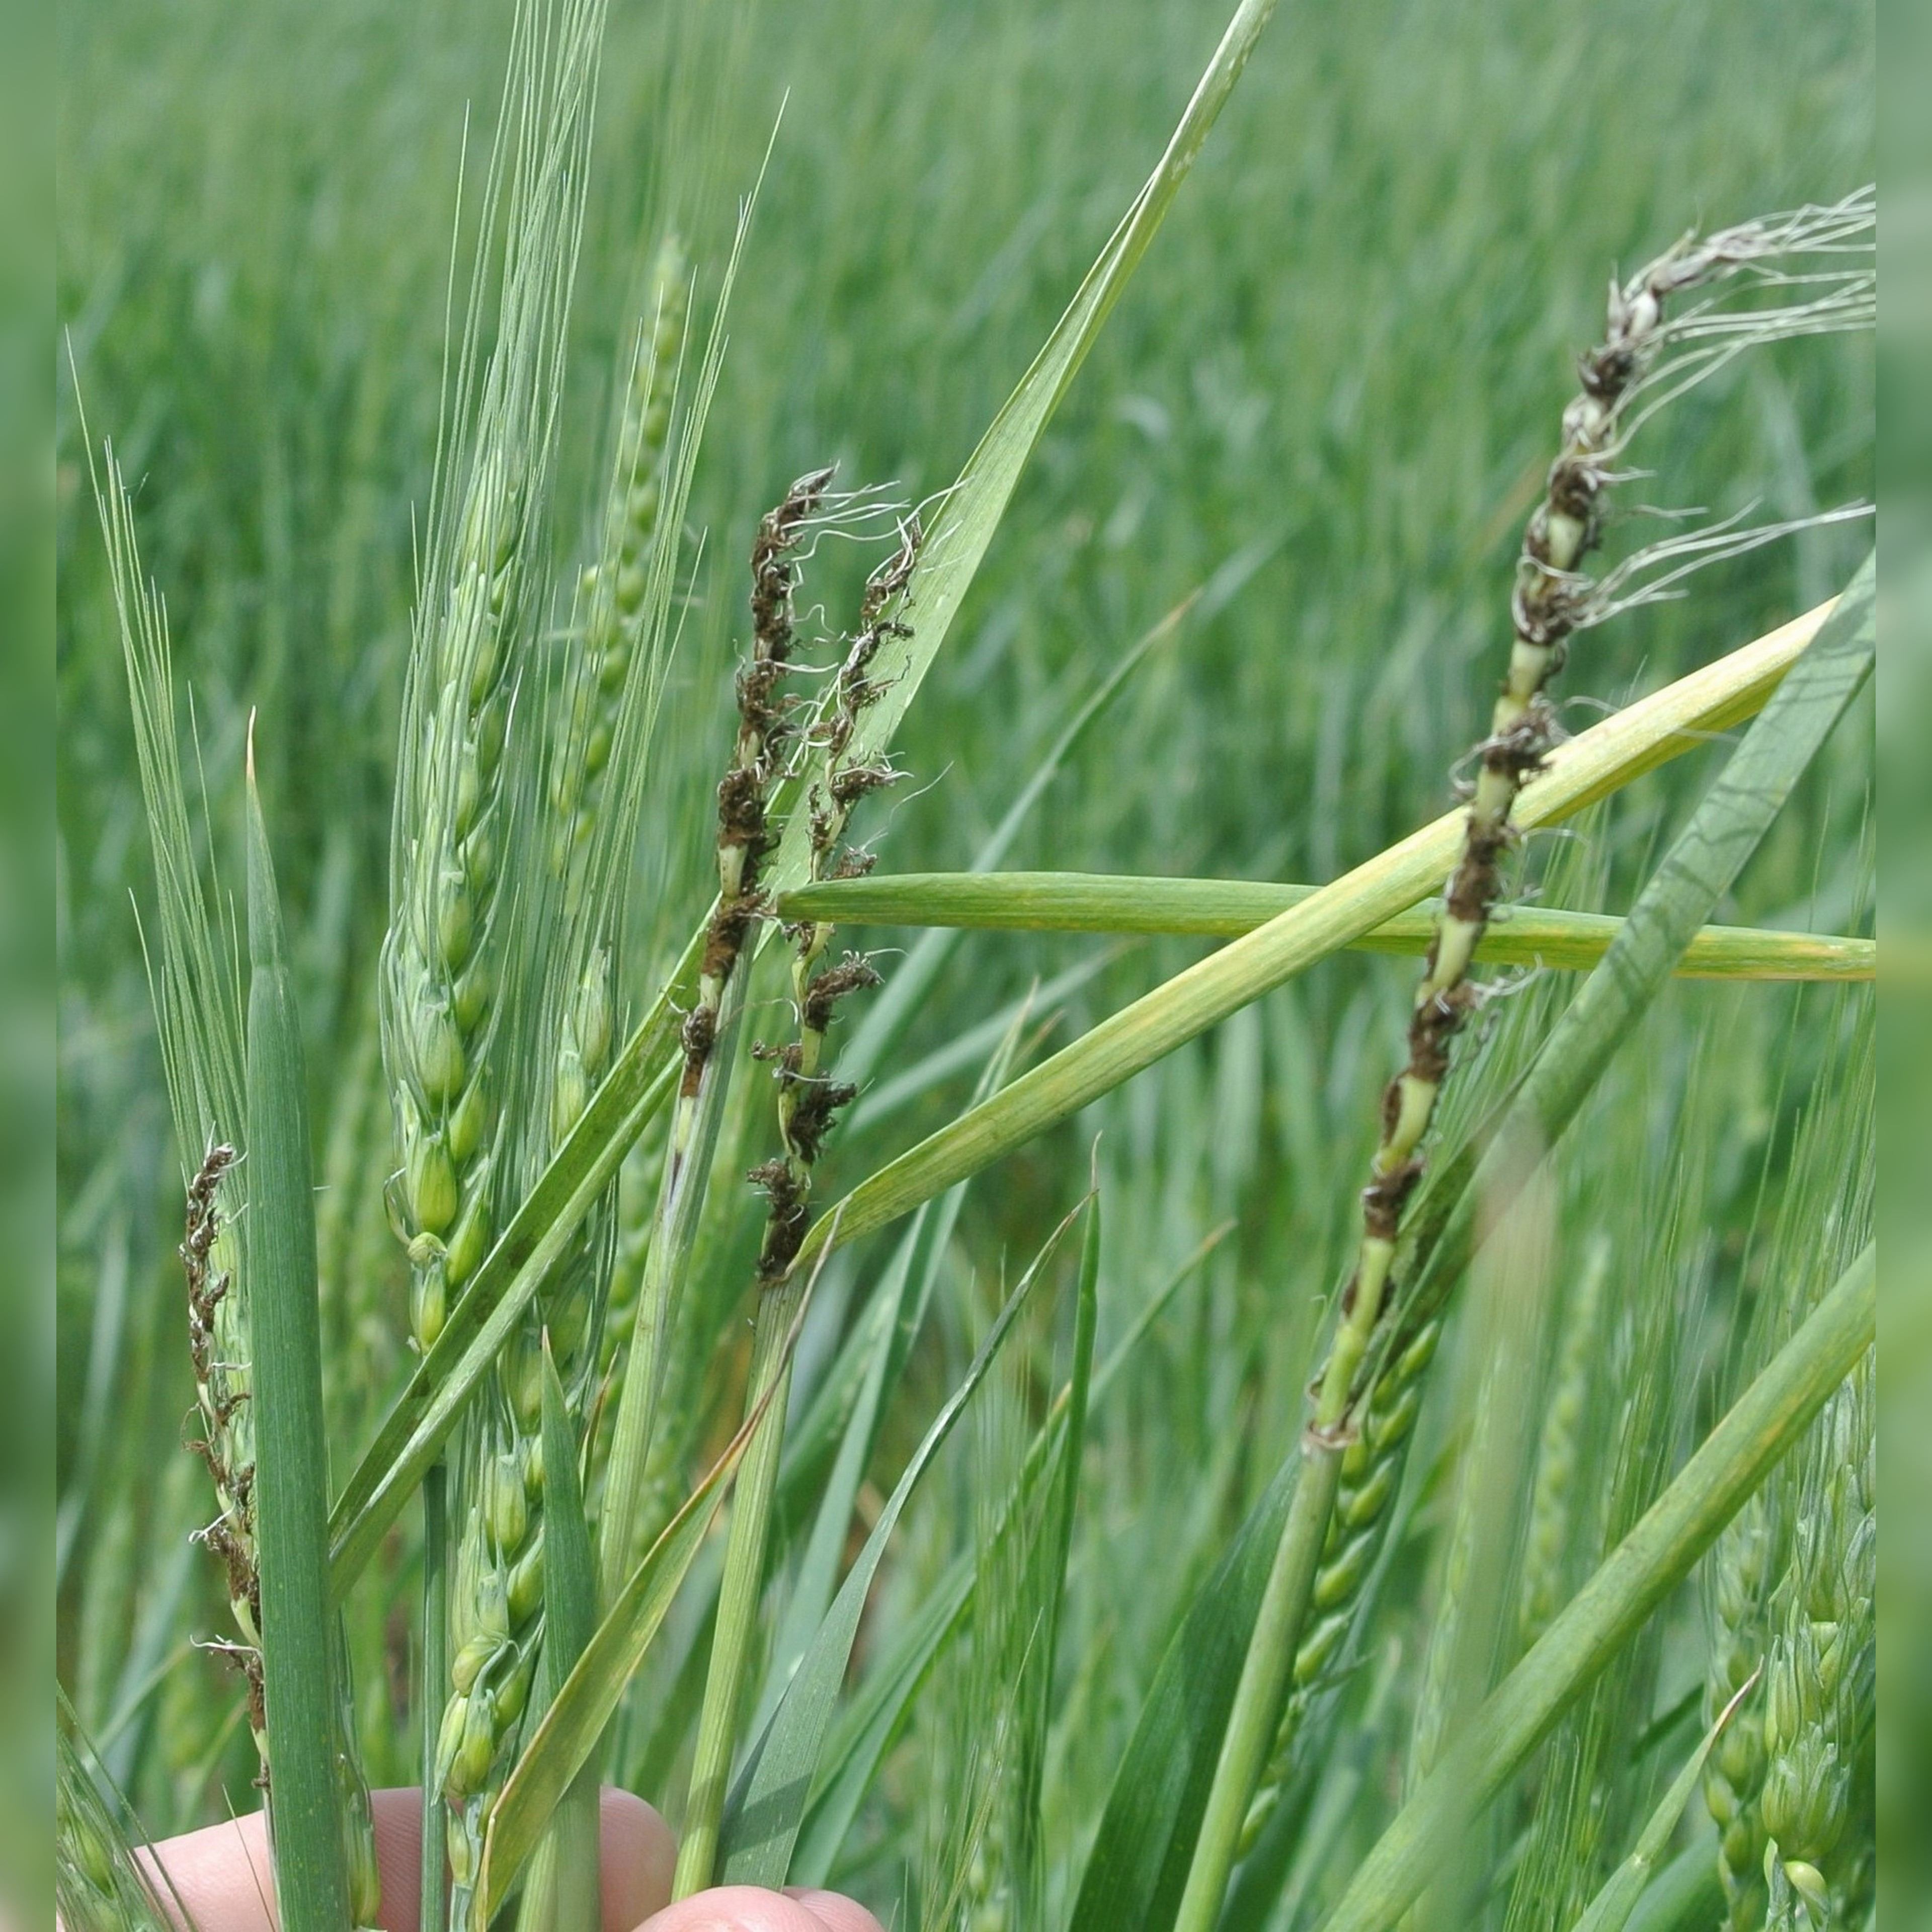Wheat Loose Smut: (669, 439, 948, 1272)
